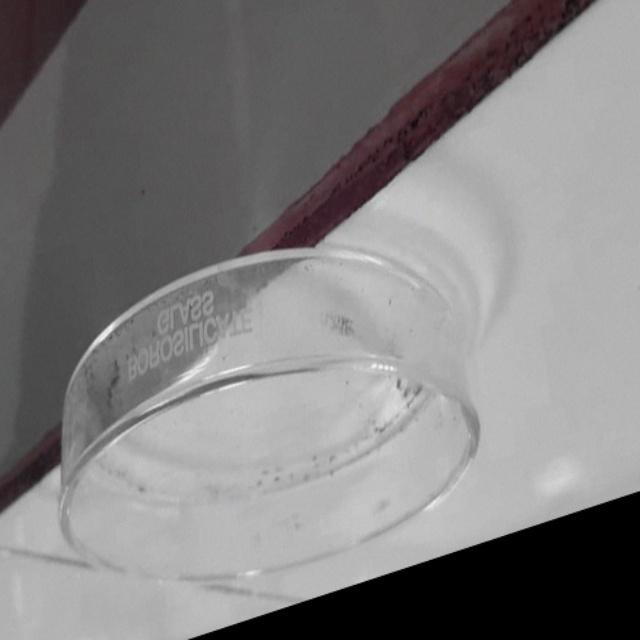Pedrish: (11, 186, 498, 640)
